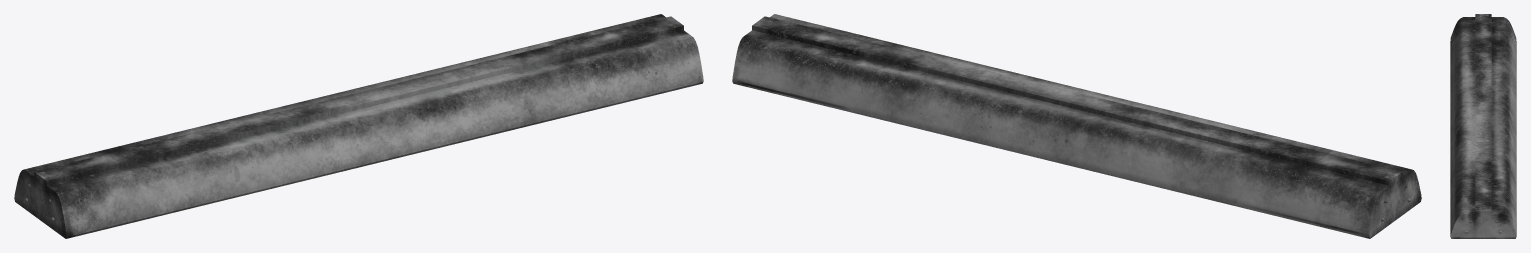
File: Ceiling_Light_1.fbx
The picture shows the model from 3 angles, left to right: view 1: azimuth 30°, elevation 25°; view 2: azimuth 150°, elevation 25°; view 3: azimuth 270°, elevation 25°; orthographic projection. The views are drawn at different scales.
Parts seen in each view (by area): view 1: lampu; view 2: lampu; view 3: lampu.
Part boxes in pixels (box(x1,y1,x2,y2)): lampu: box(14, 14, 703, 238); lampu: box(732, 14, 1421, 238); lampu: box(1450, 14, 1516, 238).
Size of the model in its own units: 168 by 11.07 by 23.65.
